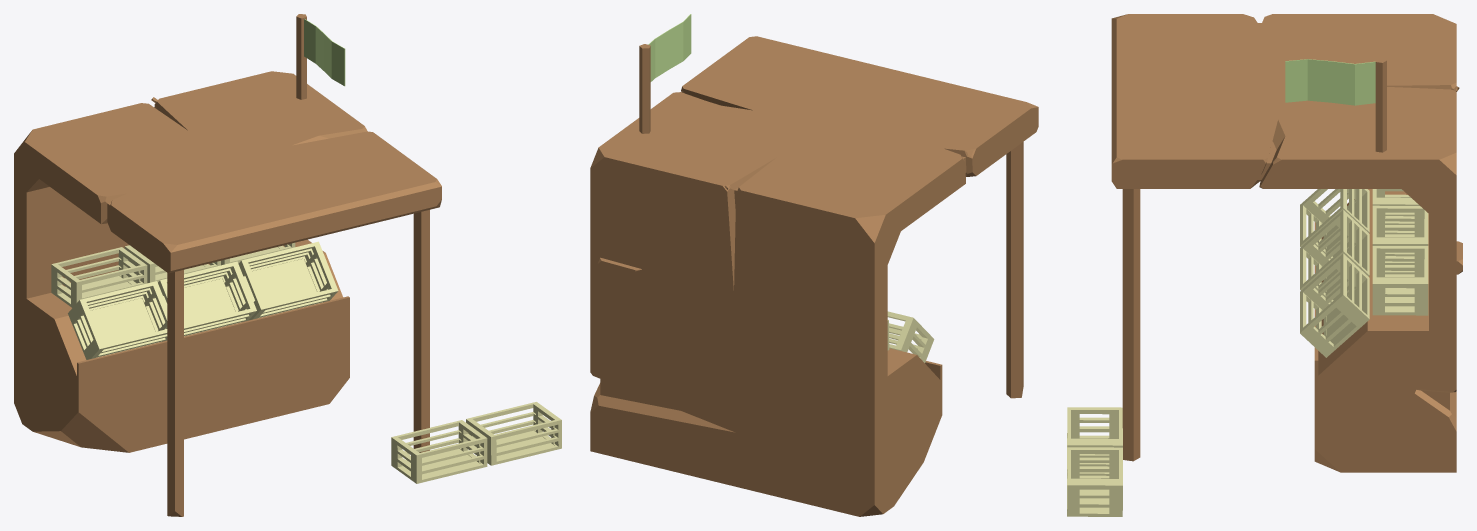
The model's file is market.fbx.
3 renders of one model, left to right at view 1: azimuth 30°, elevation 25°; view 2: azimuth 150°, elevation 25°; view 3: azimuth 270°, elevation 25°, orthographic. The views are drawn at different scales.
Visible parts, largest first — view 1: market, fruit box03, fruit box01, fruit box08, fruit box02, fruit box07, fruit box06, Cylinder.225, fruit box05; view 2: market, Cylinder.225, fruit box03; view 3: market, Cylinder.225, fruit box01, fruit box04, fruit box07, fruit box02, fruit box03, fruit box08, fruit box05, fruit box06.
Part boxes in pixels (left/top/right/bottom): market: left=14, top=71, right=441, bottom=516; fruit box03: left=68, top=281, right=167, bottom=359; fruit box01: left=238, top=241, right=338, bottom=320; fruit box08: left=391, top=420, right=487, bottom=483; fruit box02: left=158, top=261, right=256, bottom=336; fruit box07: left=466, top=402, right=561, bottom=465; fruit box06: left=51, top=247, right=147, bottom=307; Cylinder.225: left=296, top=14, right=345, bottom=99; fruit box05: left=124, top=245, right=220, bottom=283; market: left=590, top=36, right=1038, bottom=516; Cylinder.225: left=639, top=14, right=691, bottom=133; fruit box03: left=887, top=311, right=934, bottom=362; market: left=1111, top=14, right=1462, bottom=472; Cylinder.225: left=1285, top=58, right=1386, bottom=152; fruit box01: left=1300, top=253, right=1369, bottom=357; fruit box04: left=1372, top=246, right=1428, bottom=315; fruit box07: left=1067, top=447, right=1122, bottom=516; fruit box02: left=1300, top=209, right=1369, bottom=302; fruit box03: left=1300, top=189, right=1369, bottom=258; fruit box08: left=1067, top=407, right=1122, bottom=475; fruit box05: left=1372, top=205, right=1428, bottom=274; fruit box06: left=1372, top=189, right=1419, bottom=234.
Bounding box in the file's own units: 273 × 257 × 229.
